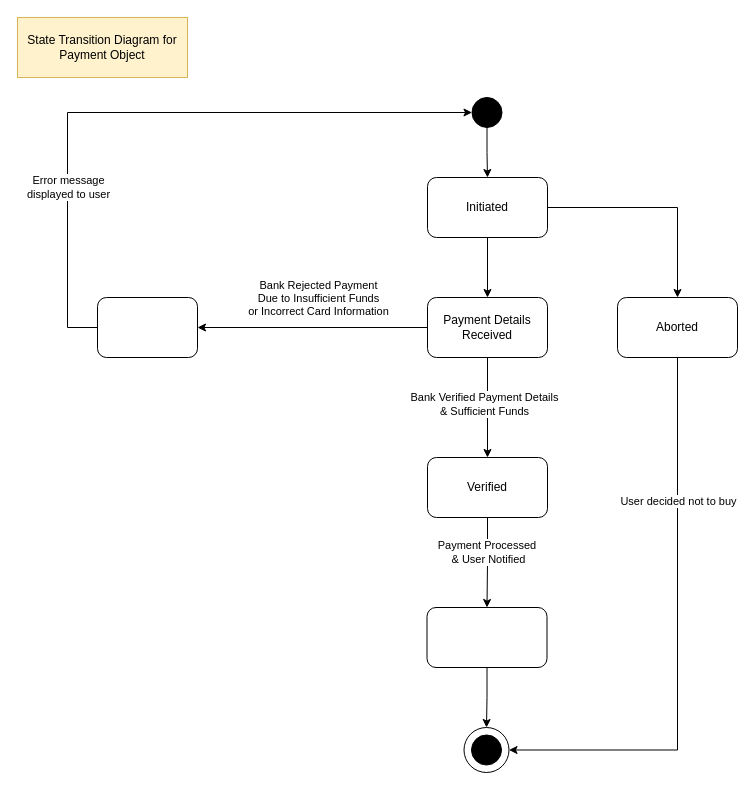
This 755x790 diagram has some shape labels left out. The box of each missing label's shape, as (x1, y1, x2, y2) in pixels:
Completed: (426, 606, 547, 668)
Not Verified: (96, 296, 198, 358)
